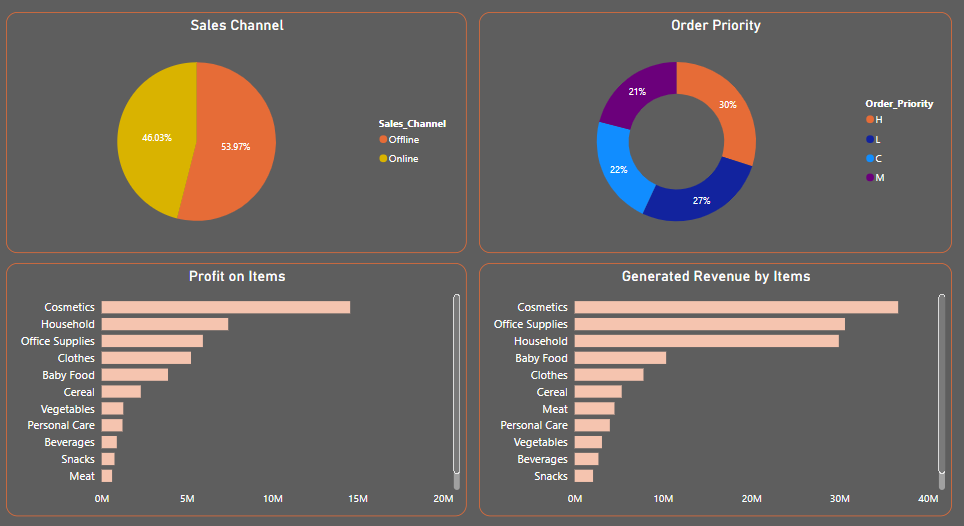

The dashboard page shown, as its layout file describes it:
{"tool":"powerbi","page":{"name":"Page 3","canvas":[1280,720],"ordinal":2},"visuals":[{"type":"pieChart","title":" Sales Channel","fields":{"Y":["Sum(amazon_sales.Units_Sold)"],"Category":["amazon_sales.Sales_Channel"]},"box":[10.1,33.1,602.2,314.7],"z":0},{"type":"donutChart","title":"Order Priority","fields":{"Category":["amazon_sales.Order_Priority"],"Y":["CountNonNull(amazon_sales.Item_Type)"]},"box":[628,33.1,618,314.7],"z":1000},{"type":"clusteredBarChart","title":"Profit on Items","fields":{"Y":["Sum(amazon_sales.Total_Profit)"],"Category":["amazon_sales.Item_Type"]},"box":[10.1,360.7,602.2,330.5],"z":2000},{"type":"clusteredBarChart","title":"Generated Revenue by Items","fields":{"Category":["amazon_sales.Item_Type"],"Y":["Sum(amazon_sales.Total_Revenue)"]},"box":[628,360.7,618,330.5],"z":3000}]}

Visuals, with their boxes on the page's 1280x720 design canvas (x1, y1, x2, y2). These are canvas units, not pixel positions in the 964x526 screenshot, which may show the page scaled, cropped or inside an application window:
" Sales Channel" pieChart: bbox=(10, 33, 612, 348)
"Order Priority" donutChart: bbox=(628, 33, 1246, 348)
"Profit on Items" clusteredBarChart: bbox=(10, 361, 612, 691)
"Generated Revenue by Items" clusteredBarChart: bbox=(628, 361, 1246, 691)
